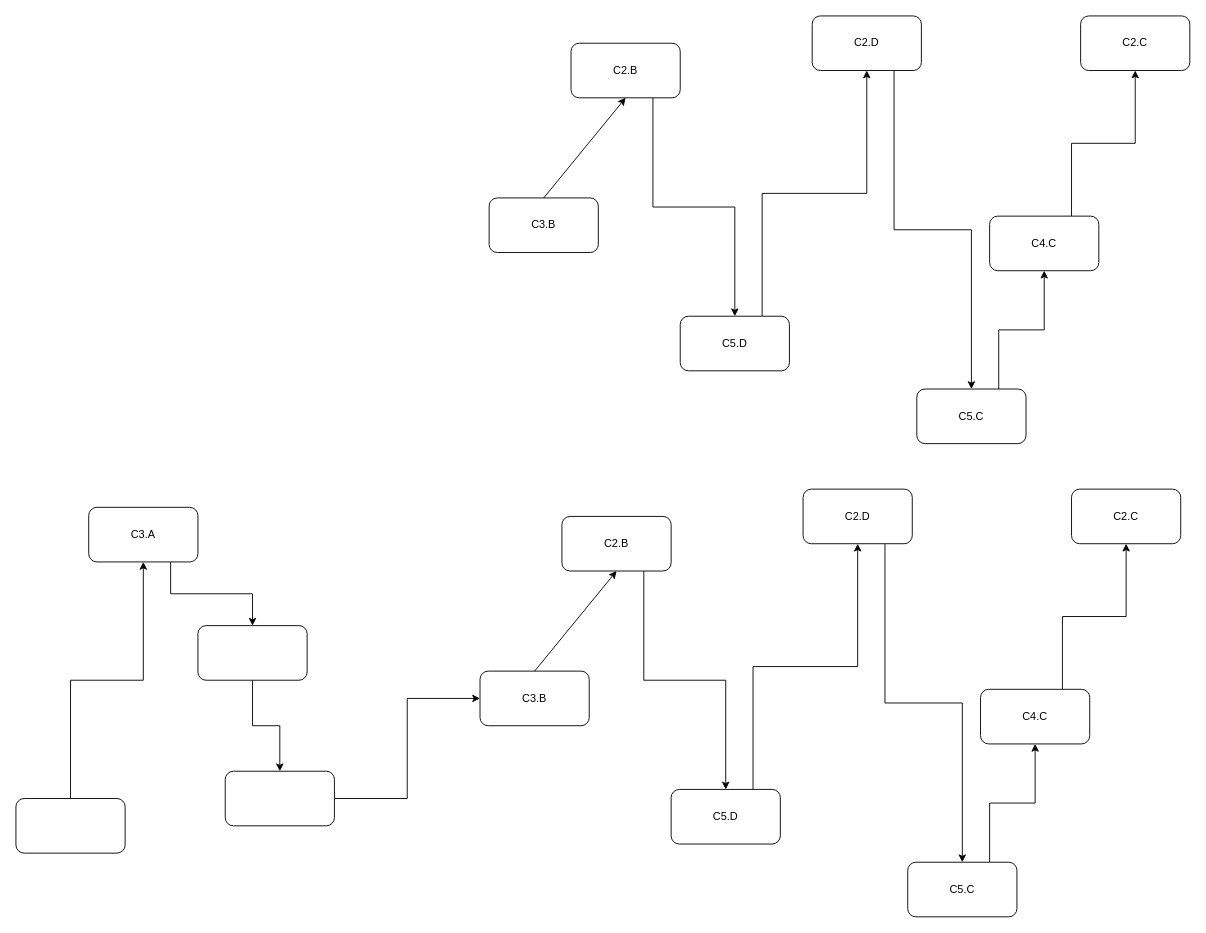
The diagram is 1206 pixels wide and 933 high, and some of its shapes have lost their labels. Here are the shapes that lost their labels. From the top down, the centre of each, then its label:
the point at 252,652: C1.A
the point at 279,798: C5.B
the point at 70,825: C4.A
